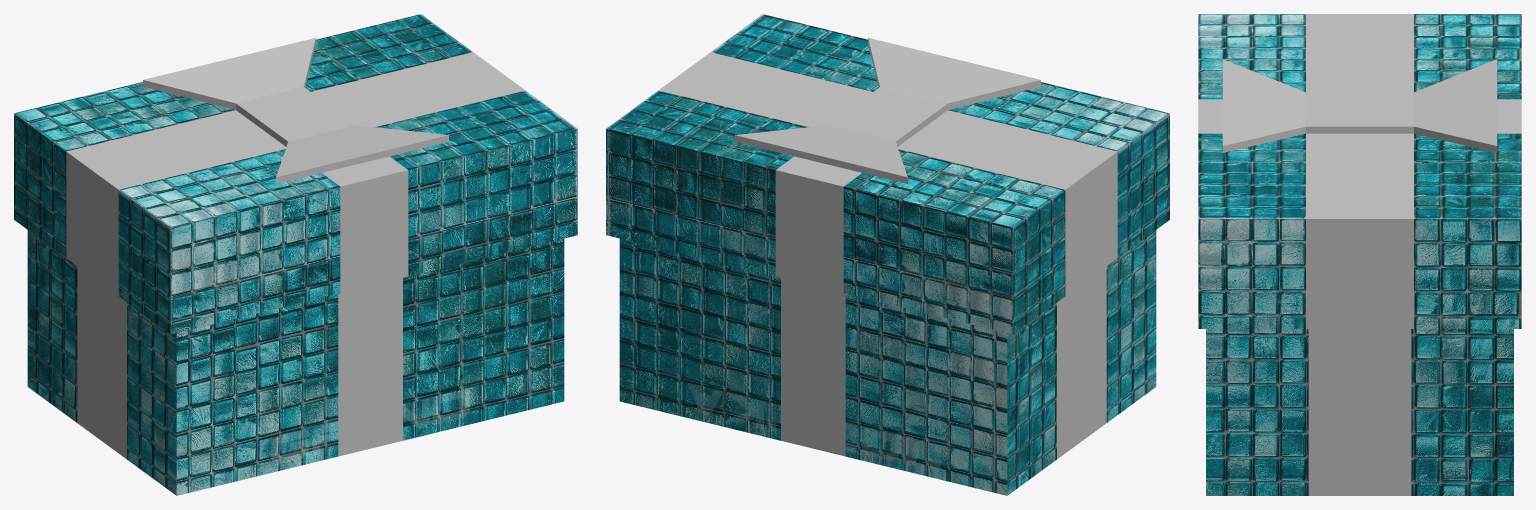
The model's file is Present.fbx.
3 renders of one model, left to right at view 1: azimuth 30°, elevation 25°; view 2: azimuth 150°, elevation 25°; view 3: azimuth 270°, elevation 25°, orthographic. The views are drawn at different scales.
Visible parts, largest first — view 1: Present; view 2: Present; view 3: Present.
Part boxes in pixels (box(x1,y1,x2,y2)): Present: box(14, 14, 577, 495); Present: box(606, 14, 1169, 495); Present: box(1198, 14, 1521, 495).
Size of the model in its own units: 315 by 212 by 210.
